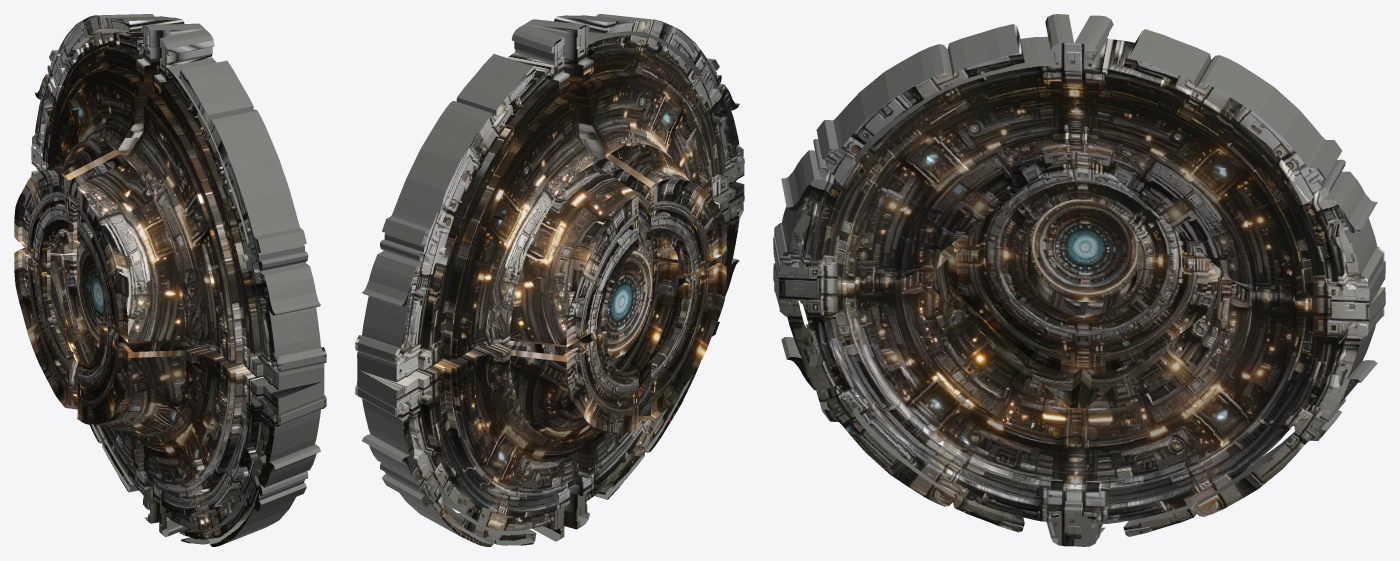
Rendered from PortalFinal.fbx.
The picture shows the model from 3 angles, left to right: view 1: azimuth 30°, elevation 25°; view 2: azimuth 150°, elevation 25°; view 3: azimuth 270°, elevation 25°; orthographic projection. The views are drawn at different scales.
Visible parts, largest first — view 1: Portal.002; view 2: Portal.002; view 3: Portal.002.
Part boxes in pixels (x1,y1,x2,y2): Portal.002: (14,14,326,546); Portal.002: (355,14,744,546); Portal.002: (773,14,1385,546).
Size of the model in its own units: 583 by 1679 by 1821.
Materials: 1 (1 with a texture image).
